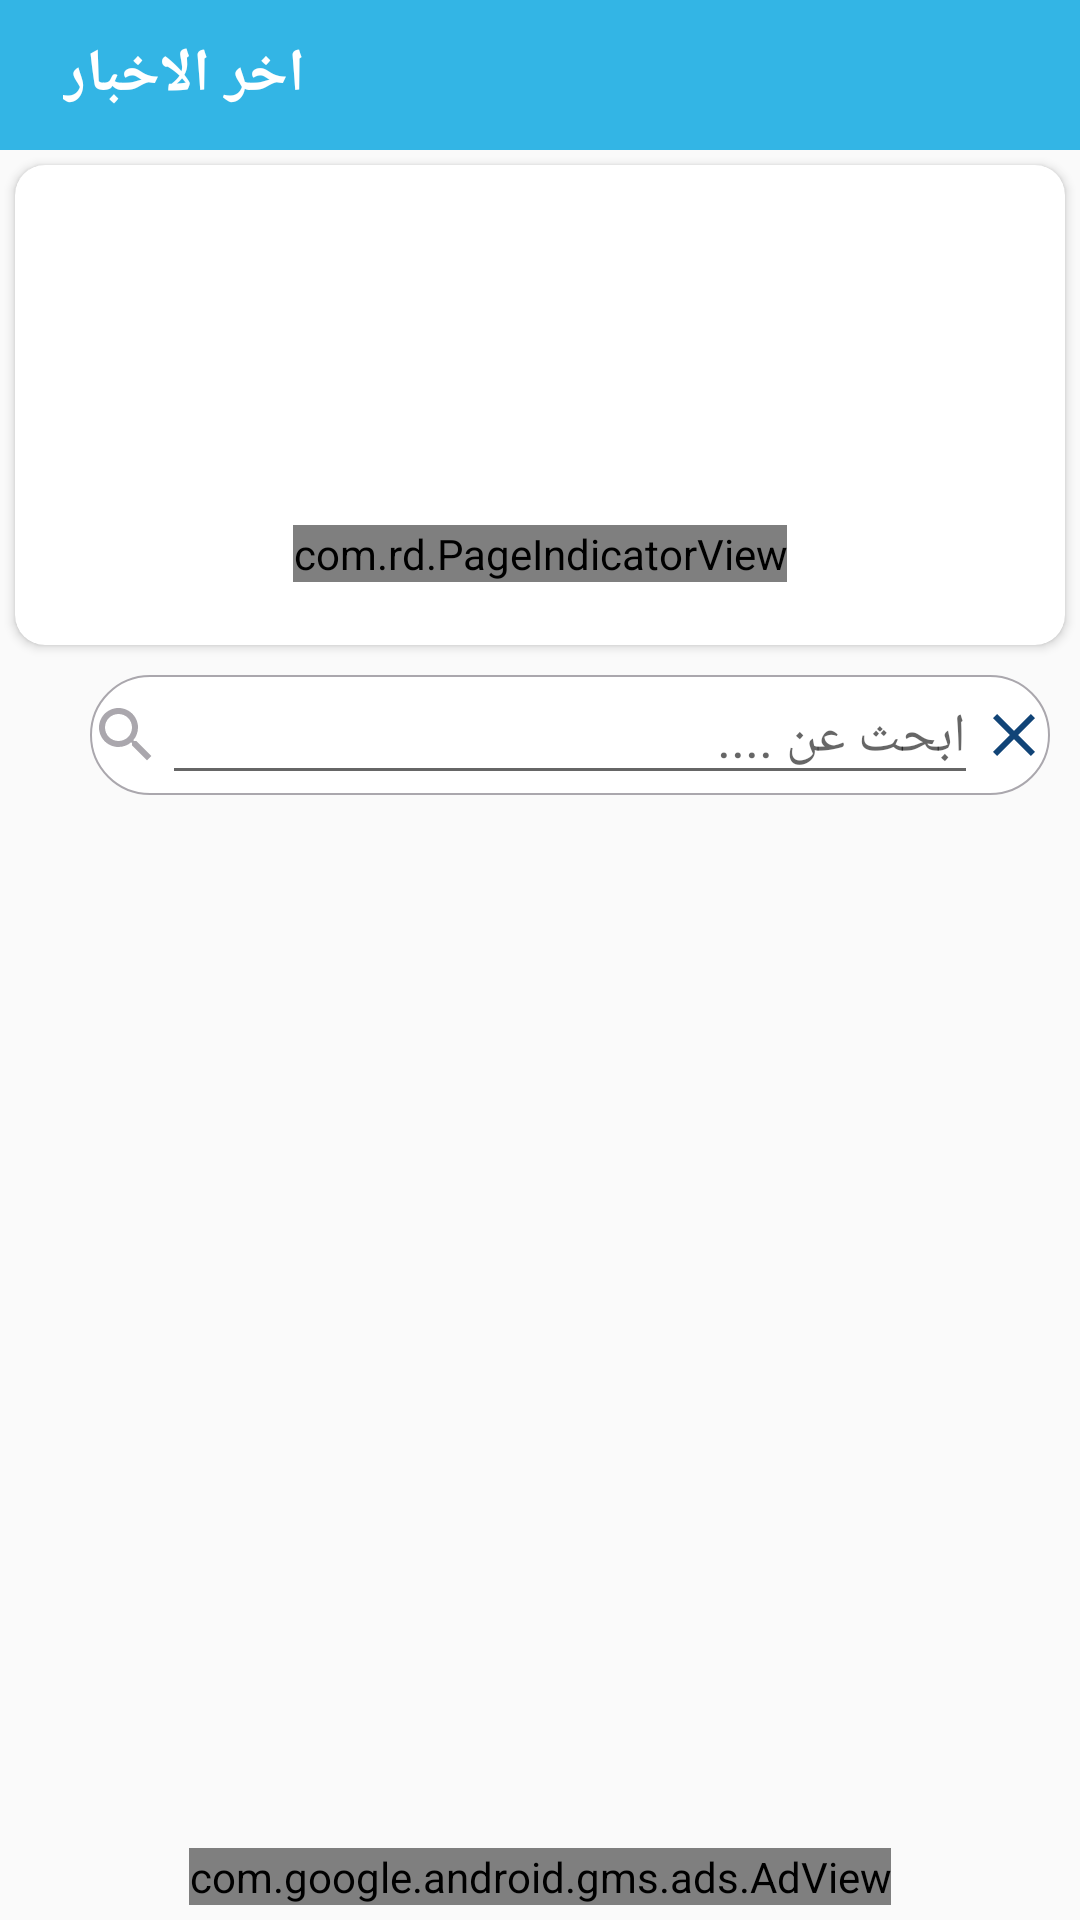

Named icons in this screenshot (1080x1920) and their bounding boxes, (x1, y1, x2, y2):
close: (993, 714, 1035, 756)
search: (99, 708, 151, 760)
